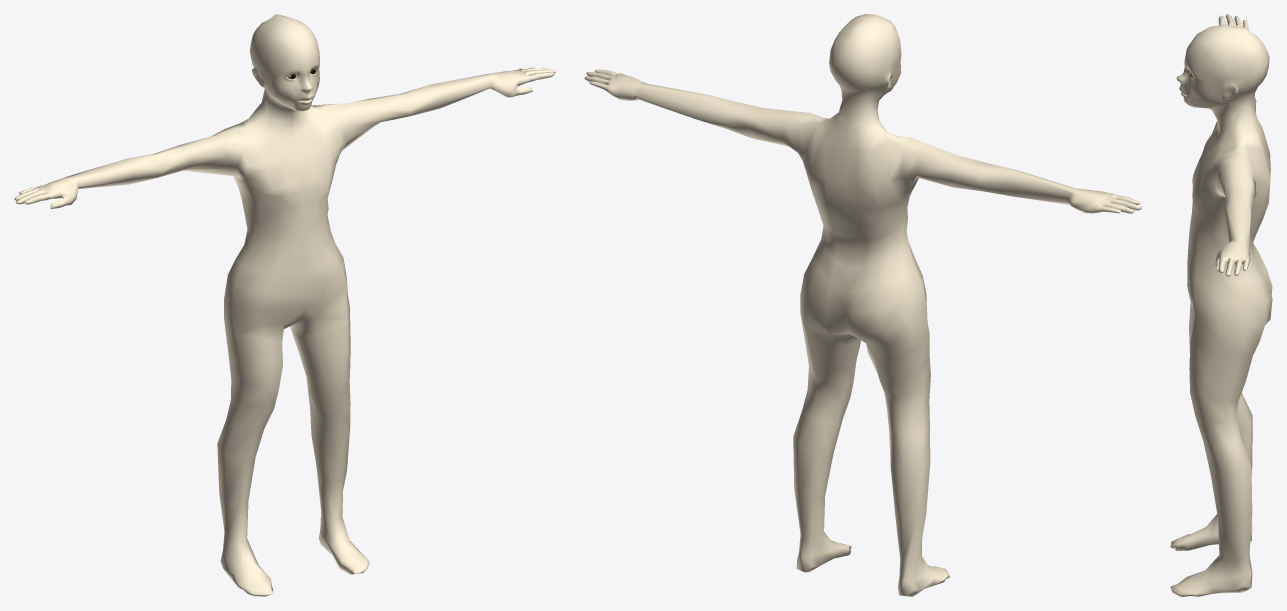
Rendered from civil_criança 4_SemOsso.fbx.
3 views of the same model, side by side, from view 1: azimuth 30°, elevation 25°; view 2: azimuth 150°, elevation 25°; view 3: azimuth 270°, elevation 25° (orthographic). The views are drawn at different scales.
Visible parts, largest first — view 1: male1591Mesh; view 2: male1591Mesh; view 3: male1591Mesh.
Part boxes in pixels (box(x1,y1,x2,y2)): male1591Mesh: box(14, 14, 555, 596); male1591Mesh: box(584, 14, 1141, 596); male1591Mesh: box(1170, 14, 1272, 596).
Size of the model in its own units: 46.51 by 45.04 by 7.7.
